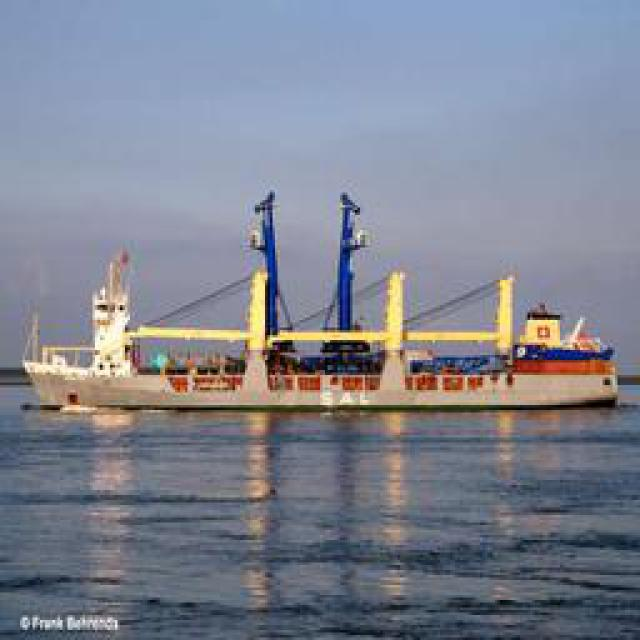Ship: (21, 182, 629, 412)
